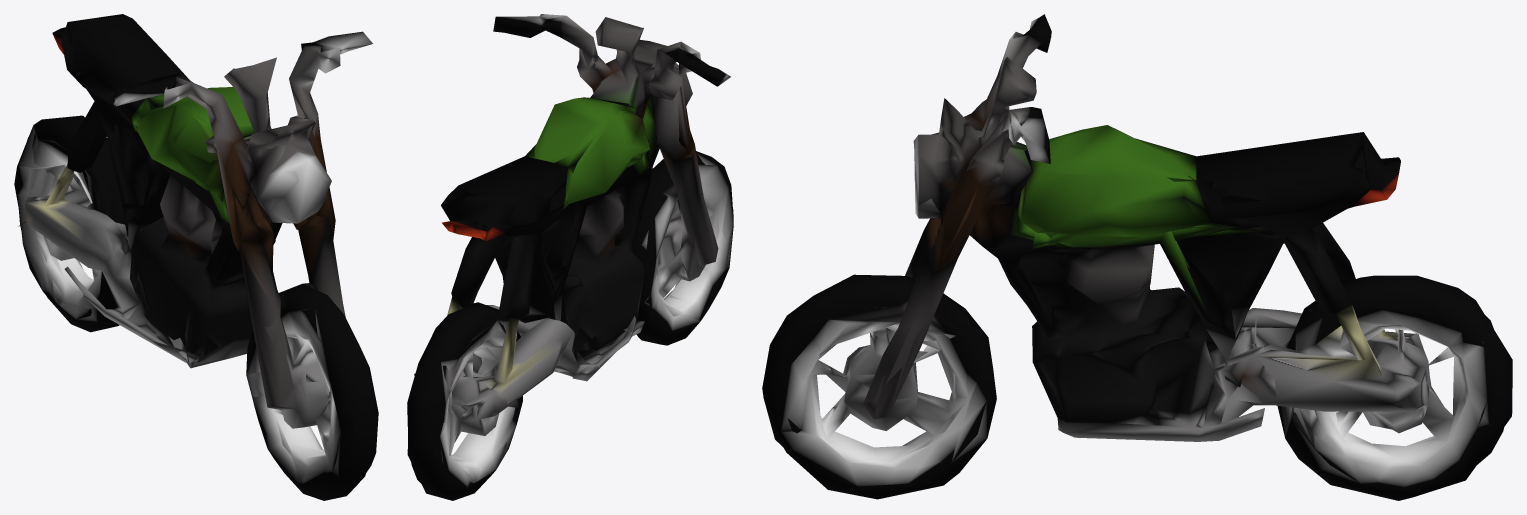
File: gen3d-motorbike-lod0.glb
3 renders of one model, left to right at view 1: azimuth 30°, elevation 25°; view 2: azimuth 150°, elevation 25°; view 3: azimuth 270°, elevation 25°, orthographic. The views are drawn at different scales.
Parts seen in each view (by area): view 1: part_0; view 2: part_0; view 3: part_0.
Part boxes in pixels (x1,y1,x2,y2): part_0: (14,14,378,500); part_0: (407,14,733,500); part_0: (762,14,1512,500).
Size of the model in its own units: 0.6932 by 0.9986 by 1.59.
